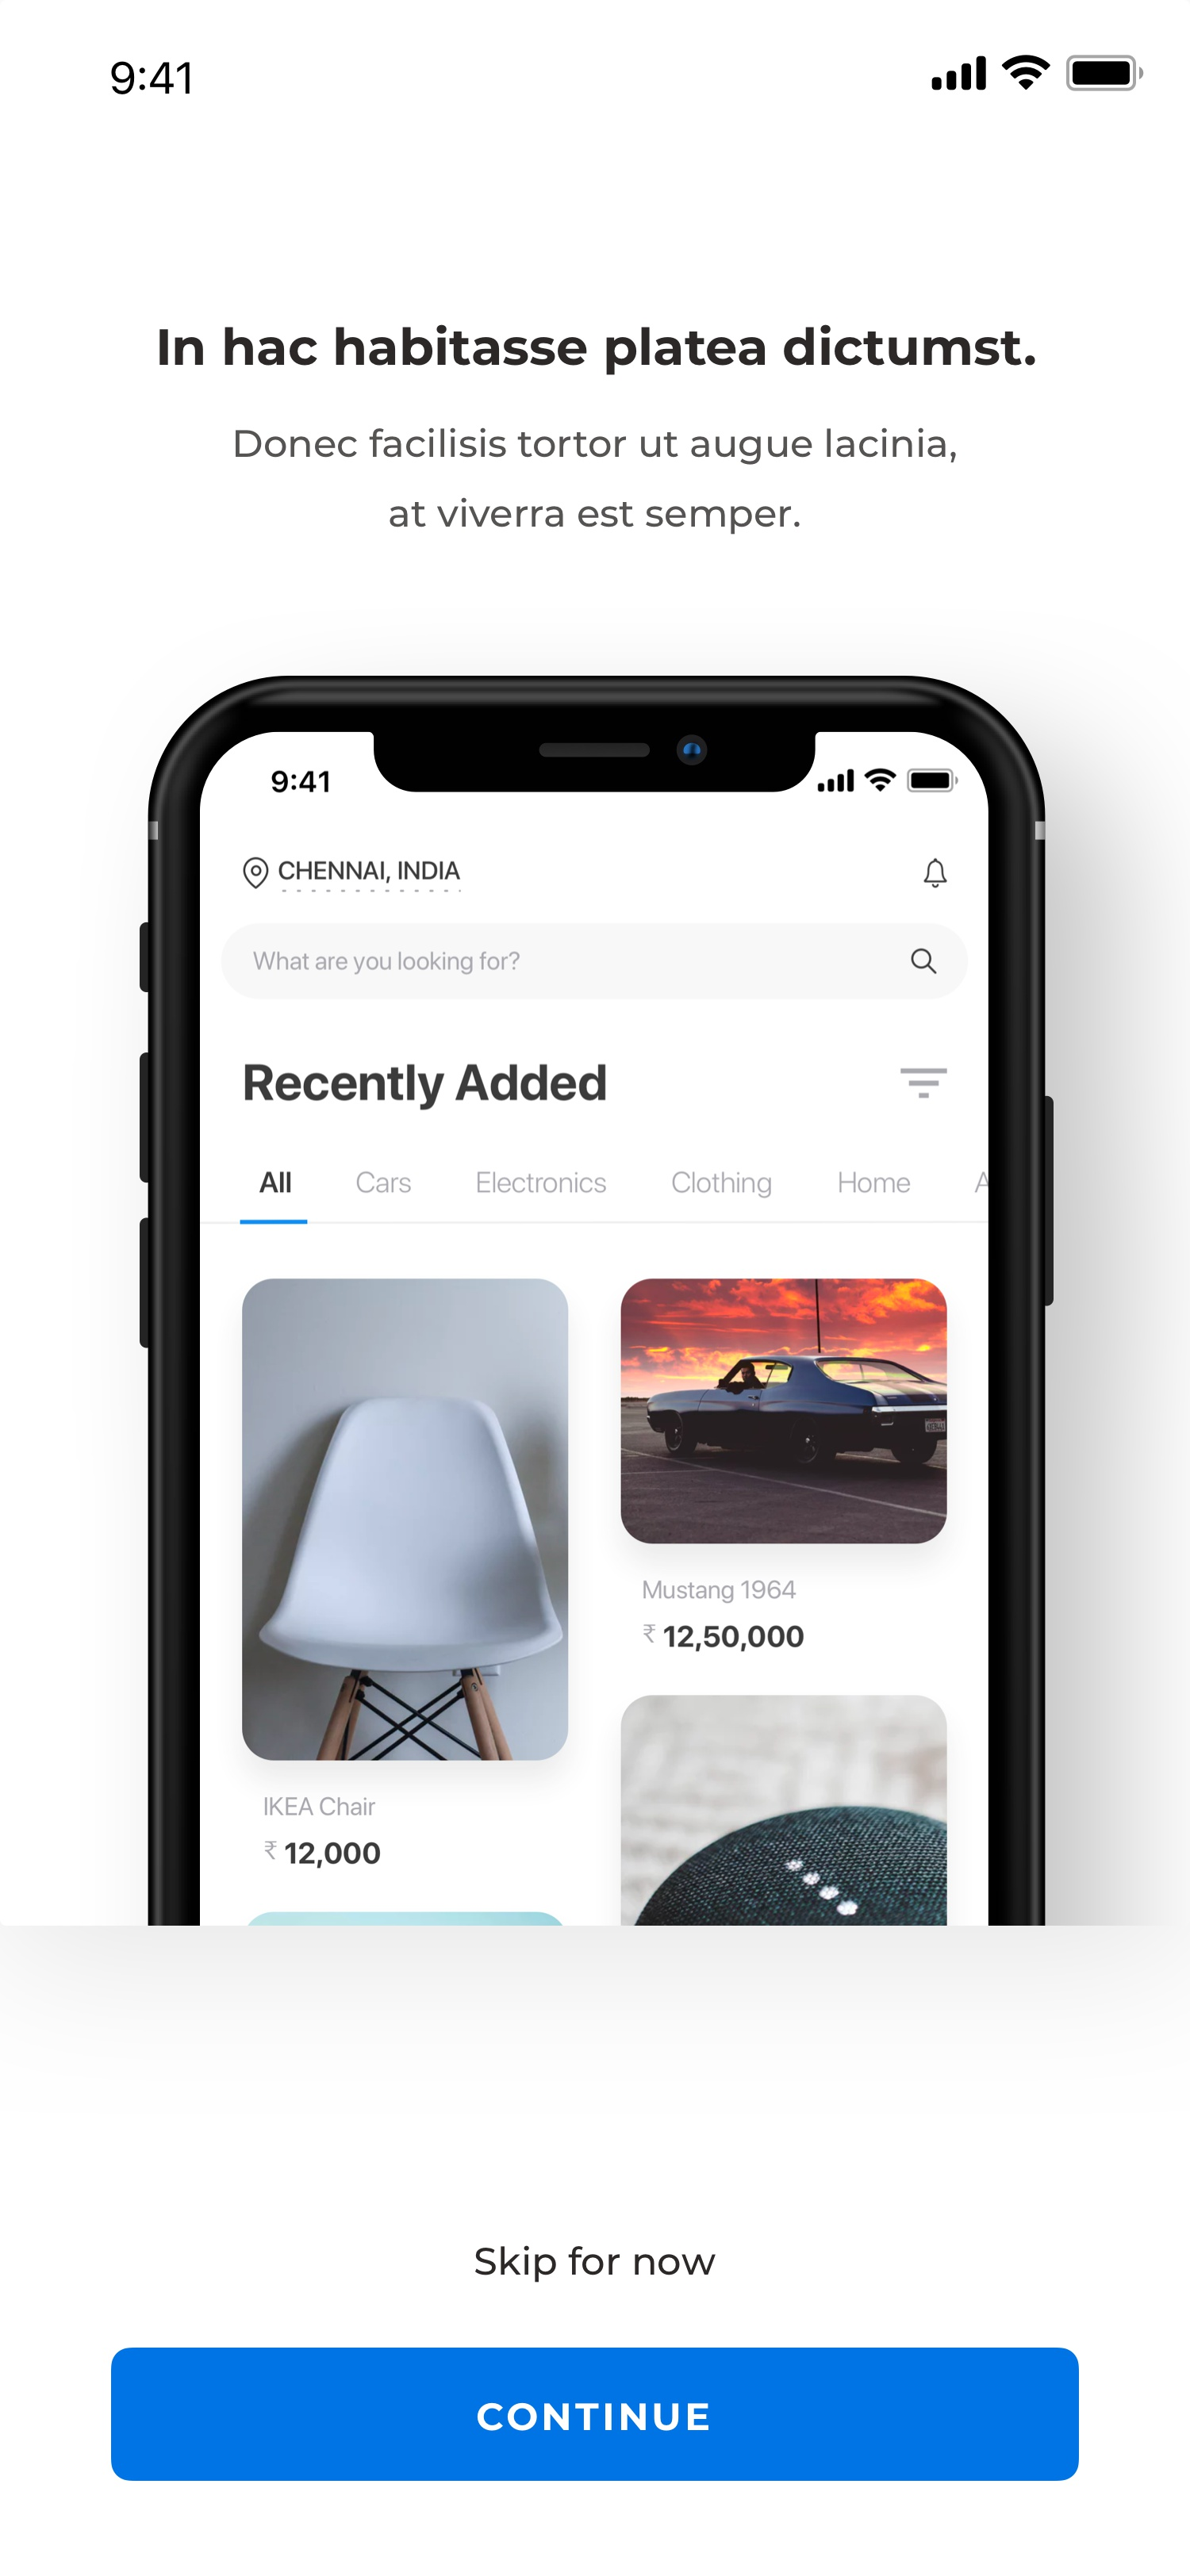Image: (138, 674, 1055, 1927)
Text: (235, 427, 957, 536), (159, 324, 1035, 376), (475, 2246, 717, 2284)
TextButton: (110, 2346, 1080, 2482)
UpperTaskBar: (112, 54, 1144, 97)
